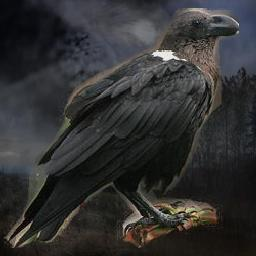Crow: (5, 8, 240, 248)
